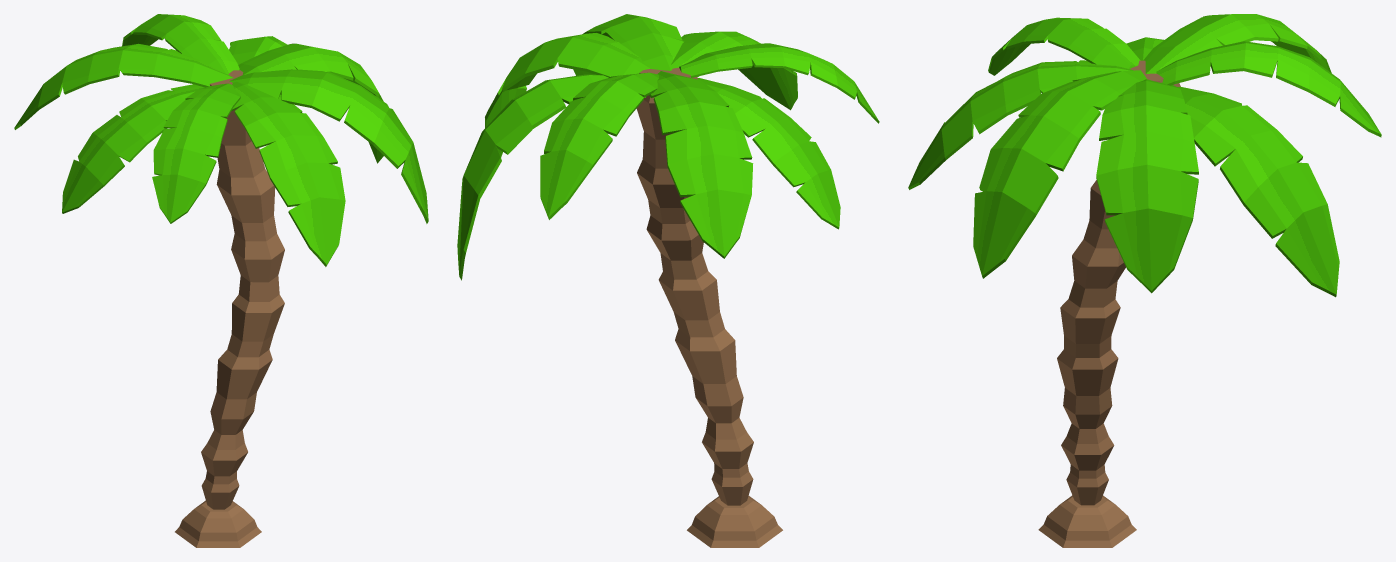
Rendered from palmier.fbx.
The picture shows the model from 3 angles, left to right: view 1: azimuth 30°, elevation 25°; view 2: azimuth 150°, elevation 25°; view 3: azimuth 270°, elevation 25°; orthographic projection. The views are drawn at different scales.
Visible parts, largest first — view 1: Plane.001, Cylinder.002; view 2: Plane.001, Cylinder.002; view 3: Plane.001, Cylinder.002.
Part boxes in pixels (bbox=[...]): Plane.001: bbox=[14, 14, 428, 266]; Cylinder.002: bbox=[175, 70, 284, 547]; Plane.001: bbox=[457, 14, 879, 280]; Cylinder.002: bbox=[636, 67, 782, 547]; Plane.001: bbox=[908, 14, 1381, 297]; Cylinder.002: bbox=[1038, 60, 1180, 547].
Size of the model in its own units: 2920 by 3987 by 3377.
1 material, 1 textured.
